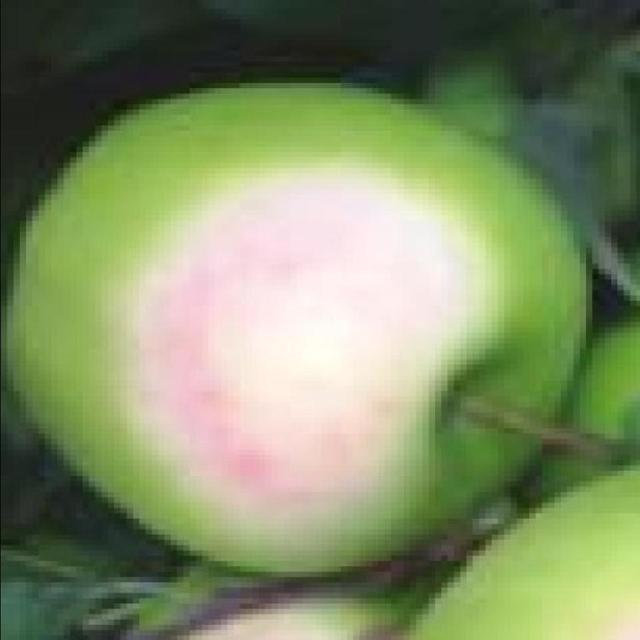Sunscald Fruit: (82, 114, 330, 355)
